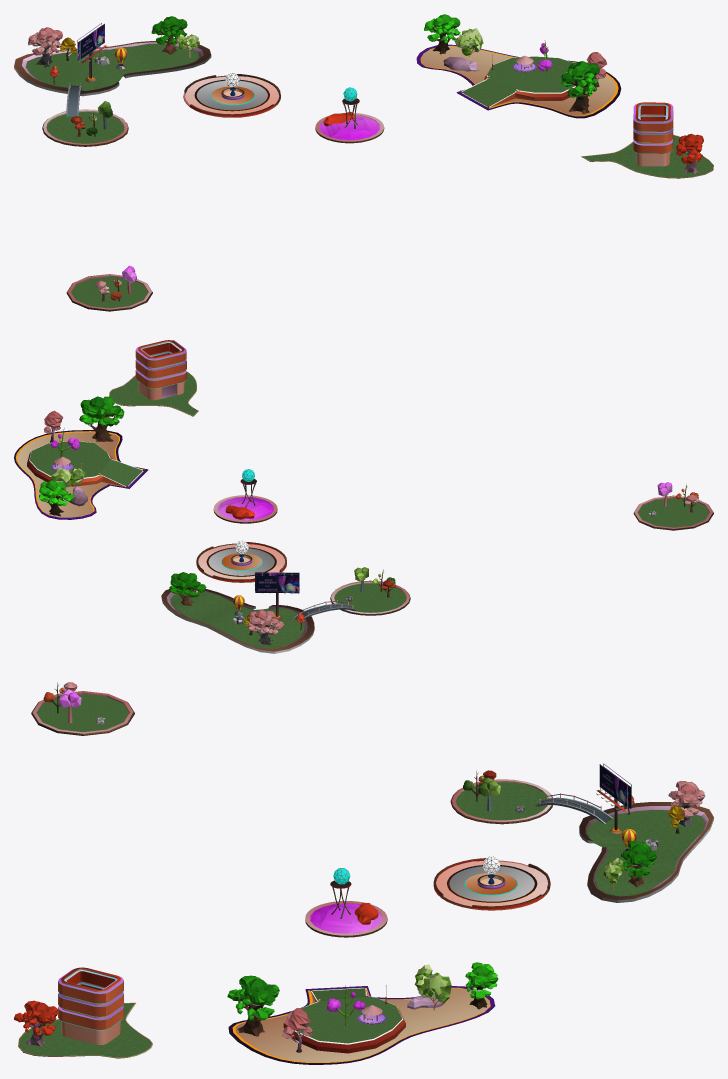
The model's file is Garden.glb.
The picture shows the model from 3 angles, top to bottom: view 1: azimuth 30°, elevation 25°; view 2: azimuth 150°, elevation 25°; view 3: azimuth 270°, elevation 25°; orthographic projection. The views are drawn at different scales.
Parts seen in each view (by area): view 1: polySurface1424.001; view 2: polySurface1424.001; view 3: polySurface1424.001.
Part boxes in pixels (x1=…): polySurface1424.001: x1=14, y1=14, x2=713, y2=311; polySurface1424.001: x1=14, y1=340, x2=713, y2=653; polySurface1424.001: x1=14, y1=682, x2=713, y2=1064.
Bounding box in the file's own units: 219 × 17.42 × 174.
Materials: 5 (5 with a texture image).
